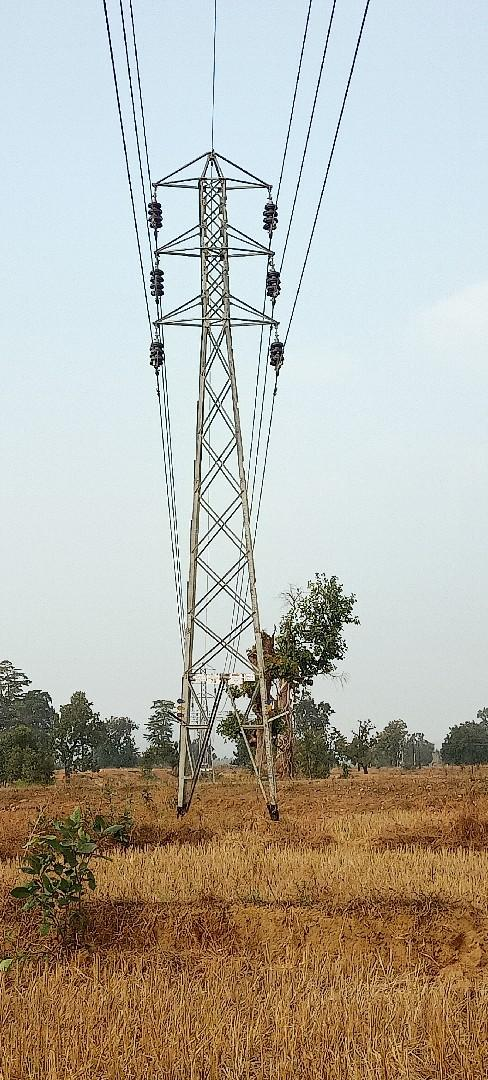GSM Antenna: (140, 145, 295, 788)
